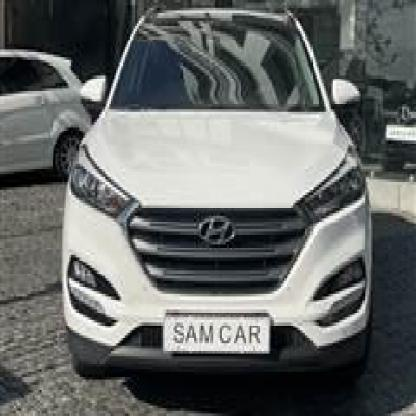Car: (66, 13, 374, 403), (0, 36, 102, 213)
